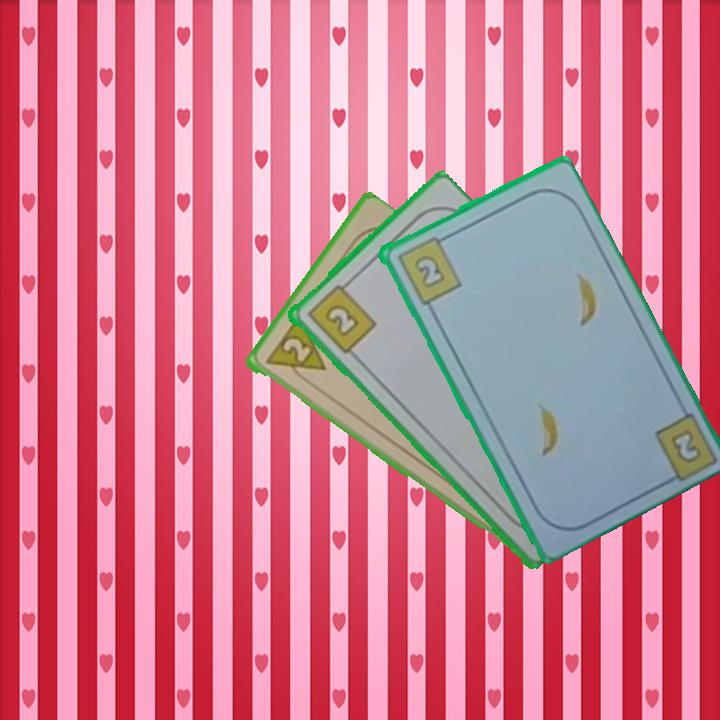2b: (303, 277, 379, 357), (392, 231, 464, 307), (666, 425, 704, 466)
2p: (261, 313, 328, 388)
